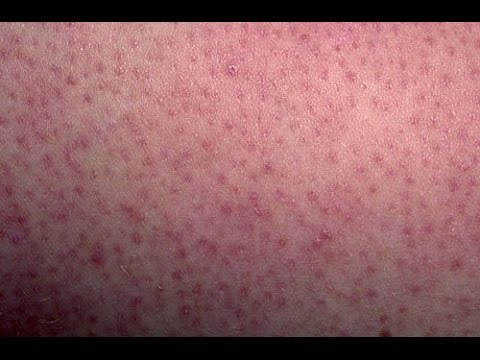Acne: (0, 23, 480, 337)
